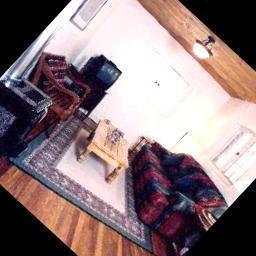Electrodomestico: (0, 73, 60, 174)
